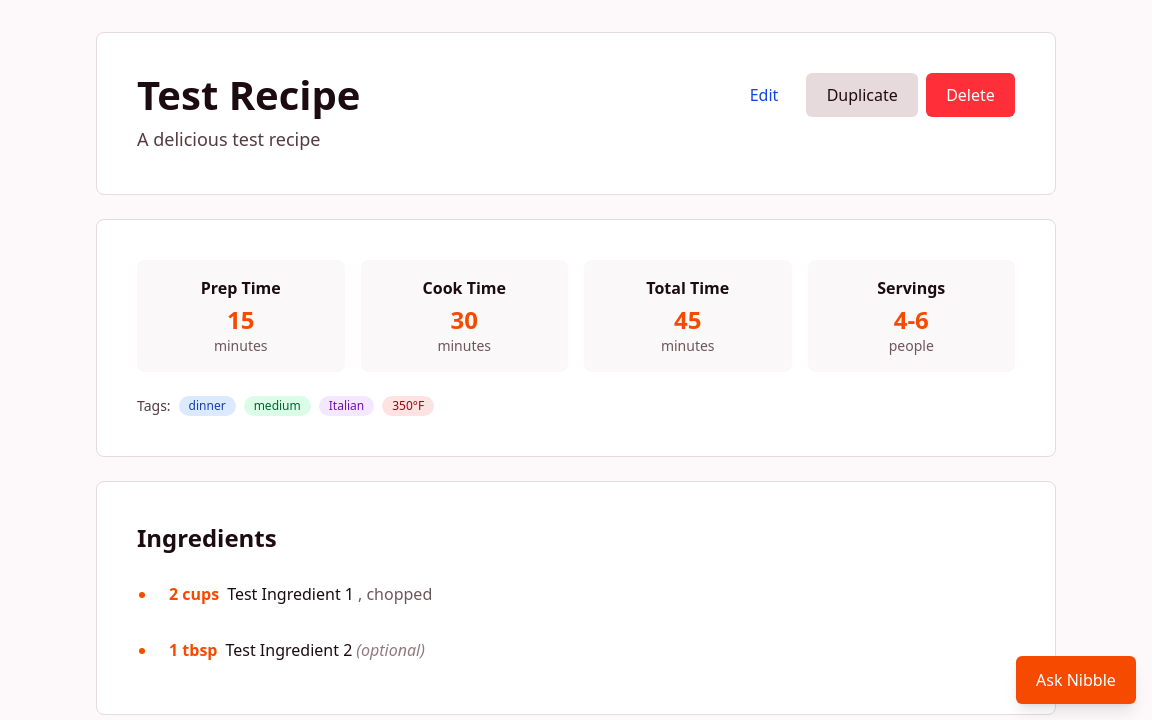
RecipesDetail › opens delete confirmation modal when delete button is clicked
(page scrolled)
Click the button with aria-label "delete test recipe". click: (970, 95)
box: [926, 73, 1015, 117]
(page scrolled)
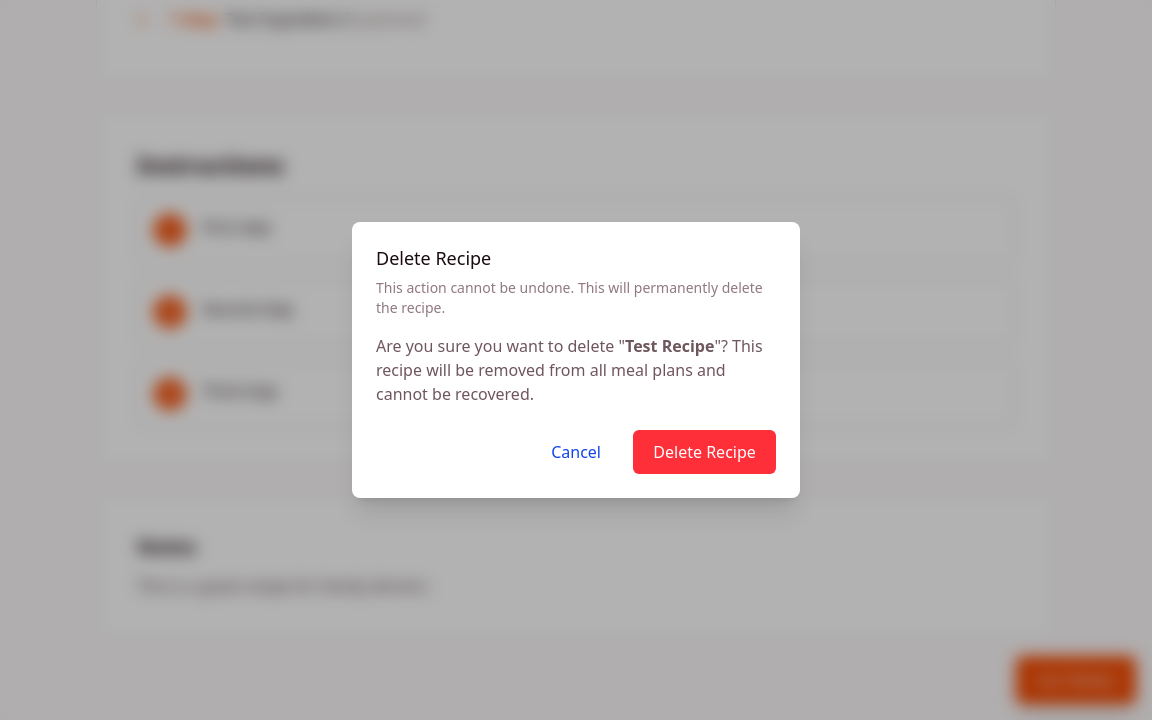
Check: the heading "Delete Recipe" is shown, box [376, 246, 491, 270]
